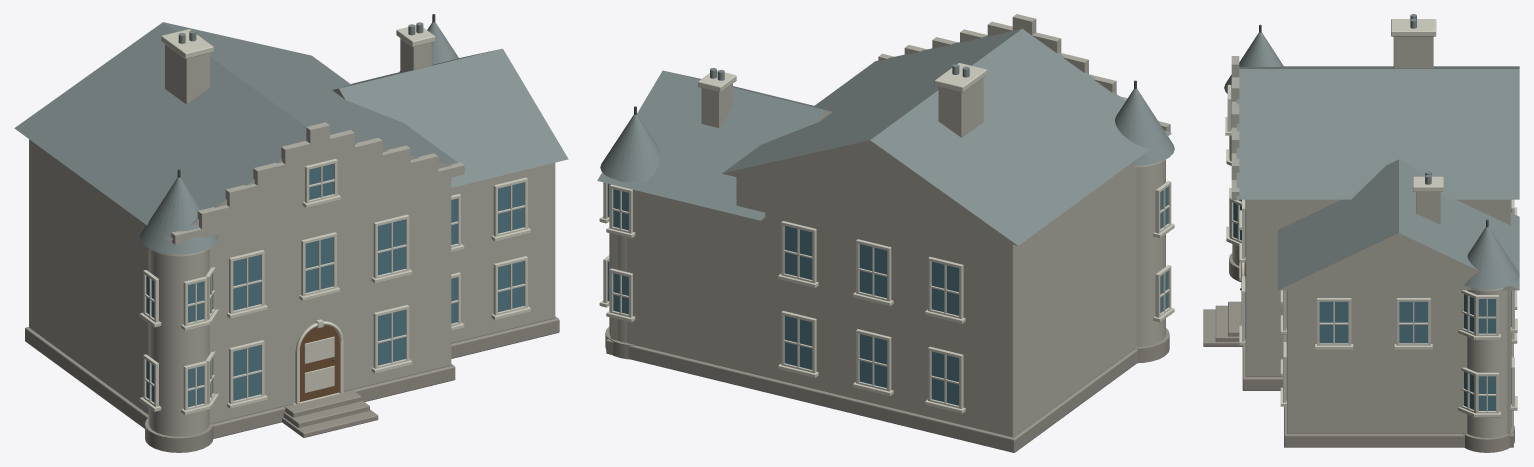
File: large_scottish_baronial.glb
3 renders of one model, left to right at view 1: azimuth 30°, elevation 25°; view 2: azimuth 150°, elevation 25°; view 3: azimuth 270°, elevation 25°, orthographic. The views are drawn at different scales.
Parts seen in each view (by area): view 1: Main Scottish residence closed exterior walls, Main steep Scottish roof solid gabled roof, Lower cross wing roof solid gabled roof, Scottish crow-stepped front gable, Asymmetric residential wing closed exterior walls, Small left residential turret round tower, Main Scottish residence closed foundation, Small left residential turret conical roof, Tall Scottish chimney brick shaft, Asymmetric residential wing closed foundation, Scottish arched doorway arched glazing, Scottish tall sash glazing.002 (+16 smaller); view 2: Main Scottish residence closed exterior walls, Main steep Scottish roof solid gabled roof, Asymmetric residential wing closed exterior walls, Lower cross wing roof solid gabled roof, Main Scottish residence closed foundation, Small left residential turret round tower, Small right wing turret conical roof, Small left residential turret conical roof, Scottish crow-stepped front gable, Asymmetric residential wing closed foundation, Tall Scottish chimney brick shaft, Scottish rear sash glazing.005 (+9 smaller); view 3: Main steep Scottish roof solid gabled roof, Asymmetric residential wing closed exterior walls, Lower cross wing roof solid gabled roof, Main Scottish residence closed exterior walls, Small right wing turret round tower, Asymmetric residential wing closed foundation, Small right wing turret conical roof, Tall Scottish chimney brick shaft, Scottish crow-stepped front gable, Scottish side upper sash glazing, Scottish side upper sash glazing.001, Small left residential turret conical roof (+10 smaller).
Part boxes in pixels (left/top/right/bottom): Main Scottish residence closed exterior walls: left=29, top=139, right=451, bottom=423; Main steep Scottish roof solid gabled roof: left=14, top=22, right=465, bottom=240; Lower cross wing roof solid gabled roof: left=332, top=48, right=568, bottom=187; Scottish crow-stepped front gable: left=171, top=122, right=464, bottom=244; Asymmetric residential wing closed exterior walls: left=451, top=163, right=555, bottom=343; Small left residential turret round tower: left=148, top=249, right=209, bottom=436; Main Scottish residence closed foundation: left=25, top=327, right=455, bottom=438; Small left residential turret conical roof: left=140, top=177, right=218, bottom=254; Tall Scottish chimney brick shaft: left=165, top=44, right=209, bottom=104; Asymmetric residential wing closed foundation: left=451, top=316, right=559, bottom=358; Scottish arched doorway arched glazing: left=300, top=325, right=339, bottom=401; Scottish tall sash glazing.002: left=305, top=237, right=333, bottom=292; Main Scottish residence closed exterior walls: left=736, top=163, right=1136, bottom=437; Main steep Scottish roof solid gabled roof: left=722, top=28, right=1171, bottom=245; Asymmetric residential wing closed exterior walls: left=610, top=189, right=756, bottom=374; Lower cross wing roof solid gabled roof: left=597, top=70, right=832, bottom=220; Main Scottish residence closed foundation: left=757, top=349, right=1137, bottom=452; Small left residential turret round tower: left=1136, top=160, right=1165, bottom=346; Small right wing turret conical roof: left=600, top=114, right=660, bottom=182; Small left residential turret conical roof: left=1115, top=89, right=1174, bottom=165; Scottish crow-stepped front gable: left=878, top=14, right=1170, bottom=132; Asymmetric residential wing closed foundation: left=606, top=339, right=758, bottom=390; Tall Scottish chimney brick shaft: left=938, top=78, right=983, bottom=137; Scottish rear sash glazing.005: left=784, top=226, right=812, bottom=279; Main steep Scottish roof solid gabled roof: left=1236, top=66, right=1519, bottom=199; Asymmetric residential wing closed exterior walls: left=1287, top=290, right=1510, bottom=433; Lower cross wing roof solid gabled roof: left=1278, top=159, right=1519, bottom=290; Main Scottish residence closed exterior walls: left=1245, top=199, right=1510, bottom=376; Small right wing turret round tower: left=1467, top=290, right=1511, bottom=437; Asymmetric residential wing closed foundation: left=1284, top=406, right=1513, bottom=447; Small right wing turret conical roof: left=1464, top=227, right=1519, bottom=289; Tall Scottish chimney brick shaft: left=1393, top=36, right=1433, bottom=68; Scottish crow-stepped front gable: left=1231, top=56, right=1239, bottom=200; Scottish side upper sash glazing: left=1319, top=302, right=1348, bottom=343; Scottish side upper sash glazing.001: left=1399, top=302, right=1427, bottom=343; Small left residential turret conical roof: left=1224, top=32, right=1283, bottom=93.
Size of the model in its own units: 15.93 by 11.06 by 10.74.
